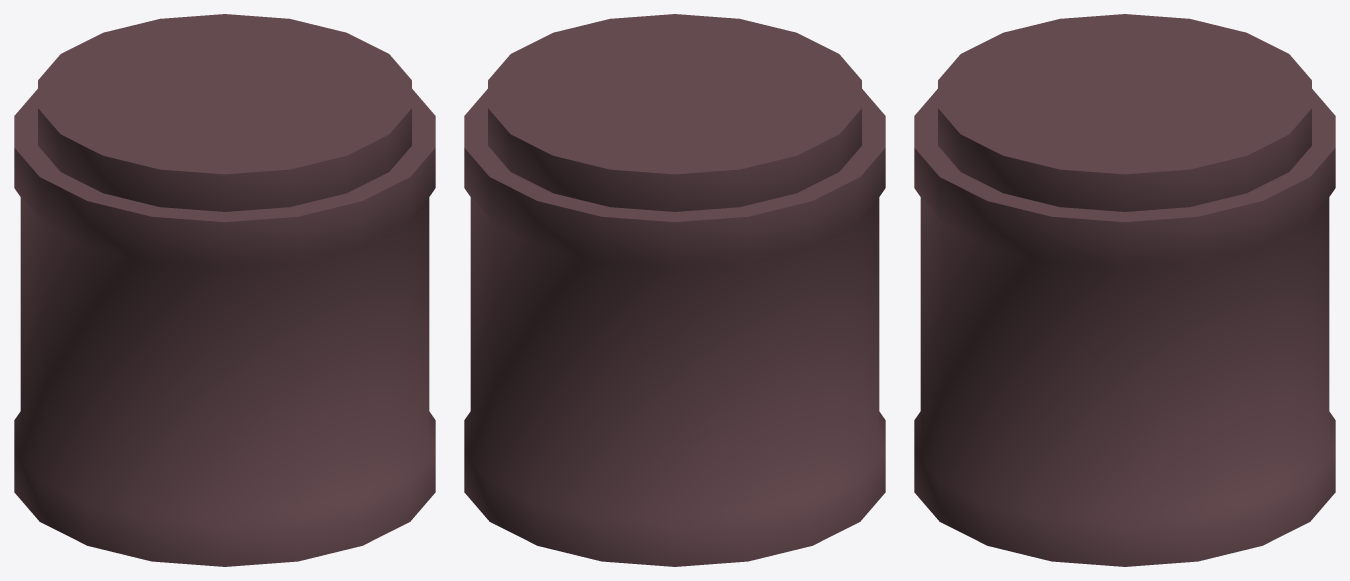
The model's file is column_decoration.fbx.
The picture shows the model from 3 angles, left to right: view 1: azimuth 30°, elevation 25°; view 2: azimuth 150°, elevation 25°; view 3: azimuth 270°, elevation 25°; orthographic projection.
Parts seen in each view (by area): view 1: column_decoration; view 2: column_decoration; view 3: column_decoration.
Boxes of the visible parts, box(x1,y1,x2,y2) form: column_decoration: box(14, 14, 435, 566); column_decoration: box(464, 14, 885, 566); column_decoration: box(914, 14, 1335, 566).
Size of the model in its own units: 158 by 155 by 155.
